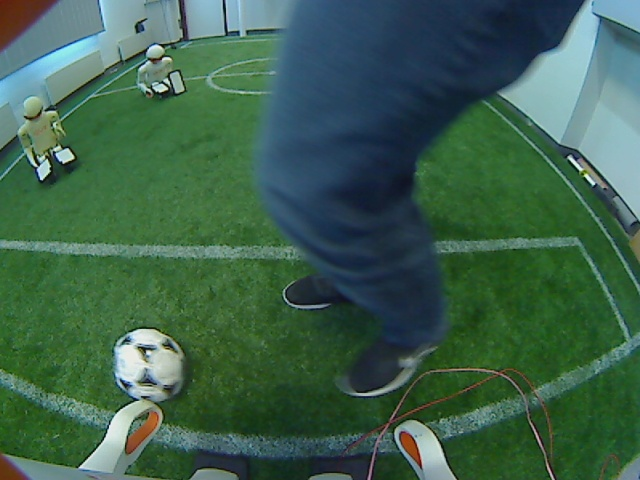ball: (109, 327, 189, 400)
robot: (15, 95, 82, 184), (133, 41, 188, 102)
